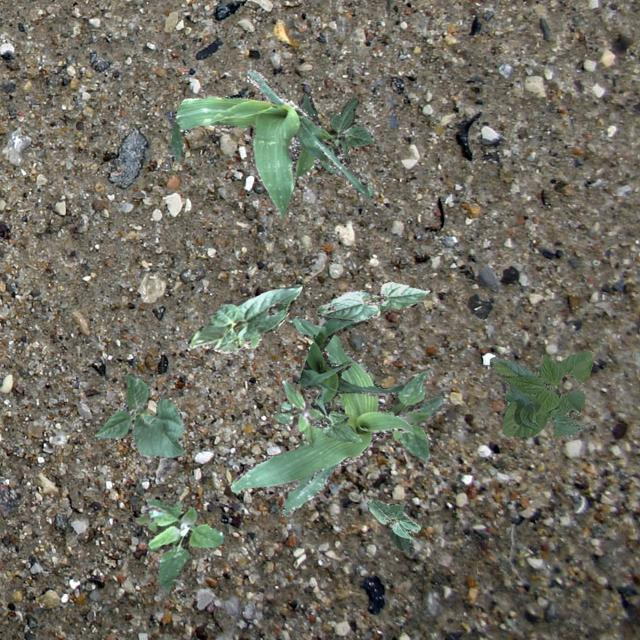crop: (230, 314, 412, 514), (162, 67, 370, 216), (298, 304, 402, 414), (488, 349, 592, 436), (94, 370, 185, 458), (187, 282, 300, 352), (298, 92, 372, 174), (316, 280, 428, 320), (280, 392, 360, 442), (366, 498, 420, 550)
weed: (138, 498, 224, 590), (382, 368, 442, 458), (272, 380, 318, 444)
